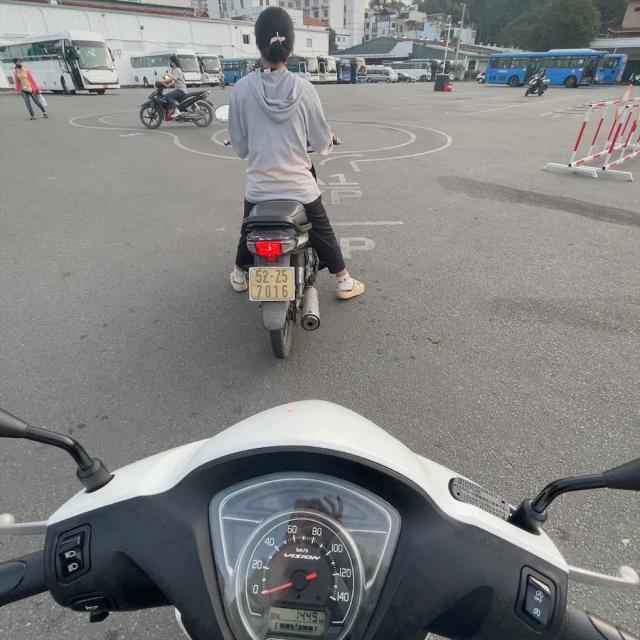motorcycle: (0, 379, 640, 640), (229, 198, 330, 369), (136, 88, 217, 129), (245, 261, 298, 305)
plate: (246, 261, 297, 306)
